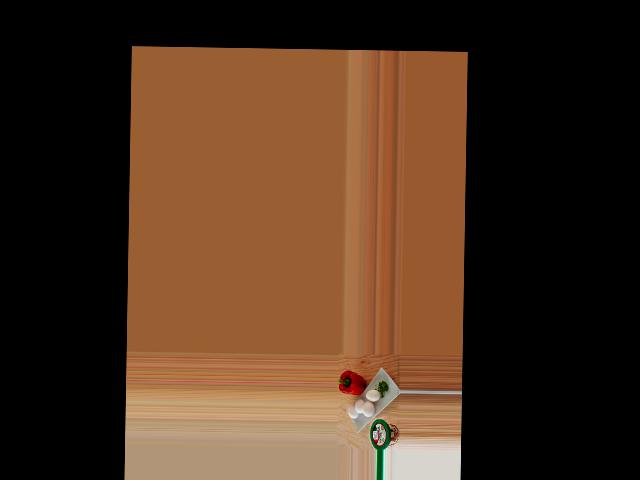bell_pepper: (339, 368, 365, 399)
